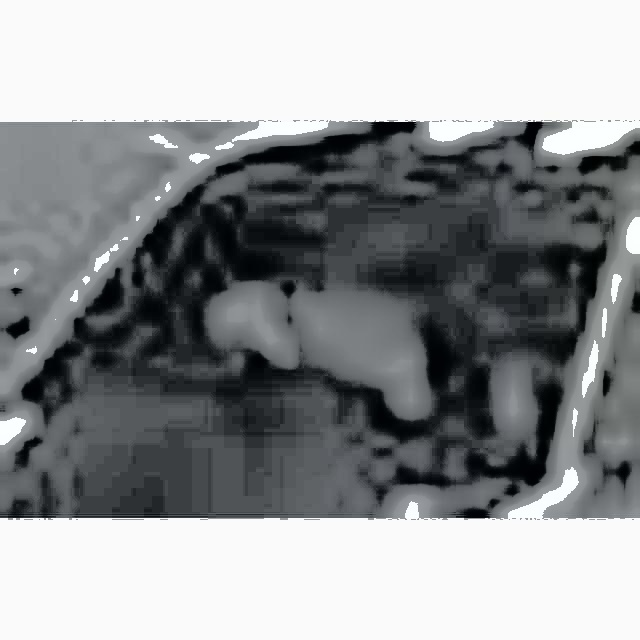pakai: (203, 234, 457, 427)
